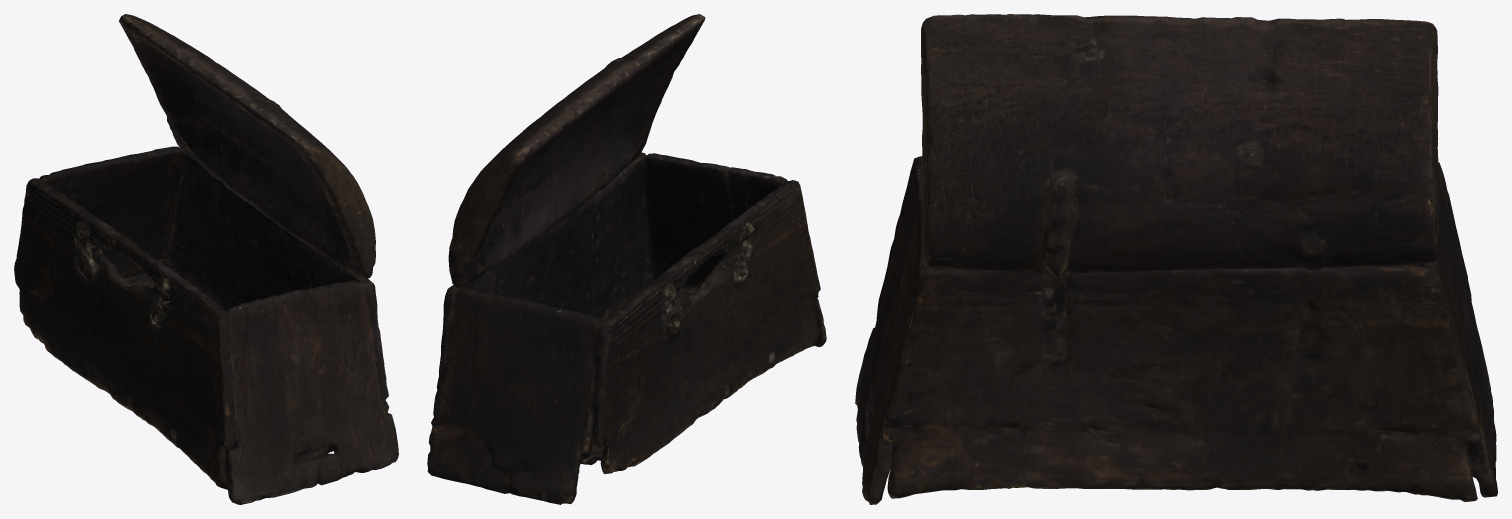
File: HedebyChest_OpeningAnimation.fbx
3 renders of one model, left to right at view 1: azimuth 30°, elevation 25°; view 2: azimuth 150°, elevation 25°; view 3: azimuth 270°, elevation 25°, orthographic. The views are drawn at different scales.
Visible parts, largest first — view 1: Chest_Retopo, Lid_Retopo; view 2: Chest_Retopo, Lid_Retopo; view 3: Chest_Retopo, Lid_Retopo.
Part boxes in pixels (x1=…): Chest_Retopo: x1=14, y1=146, x2=398, y2=504; Lid_Retopo: x1=119, y1=14, x2=375, y2=279; Chest_Retopo: x1=427, y1=152, x2=826, y2=504; Lid_Retopo: x1=448, y1=14, x2=705, y2=287; Chest_Retopo: x1=855, y1=156, x2=1497, y2=504; Lid_Retopo: x1=921, y1=14, x2=1439, y2=277.
Size of the model in its own units: 23.66 by 41.36 by 53.87.
2 materials, 2 textured.
